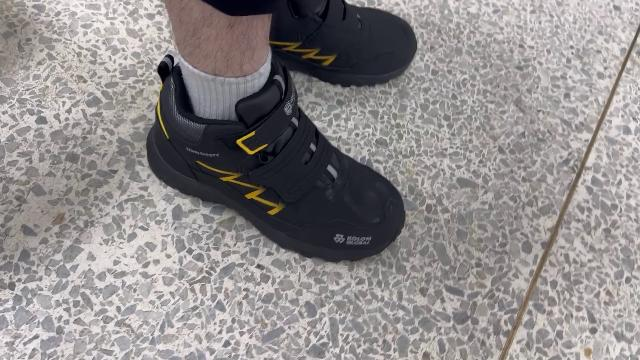shoe_worn: (141, 63, 410, 264), (258, 0, 422, 86)
